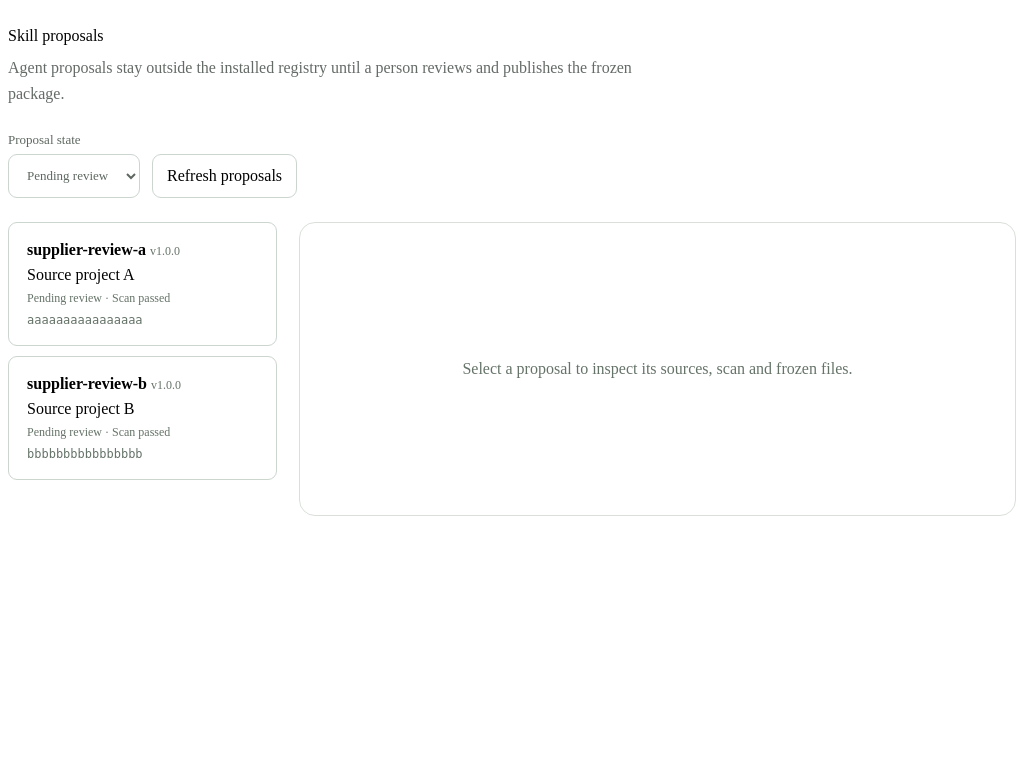
Test case: SkillProposalsPanel › publishes once with exact review and target revisions, then refreshes Installed without enabling
Step 1. Click the button that starts with "supplier-review-a" → [87, 249], box [8,222,277,346]
(page scrolled)
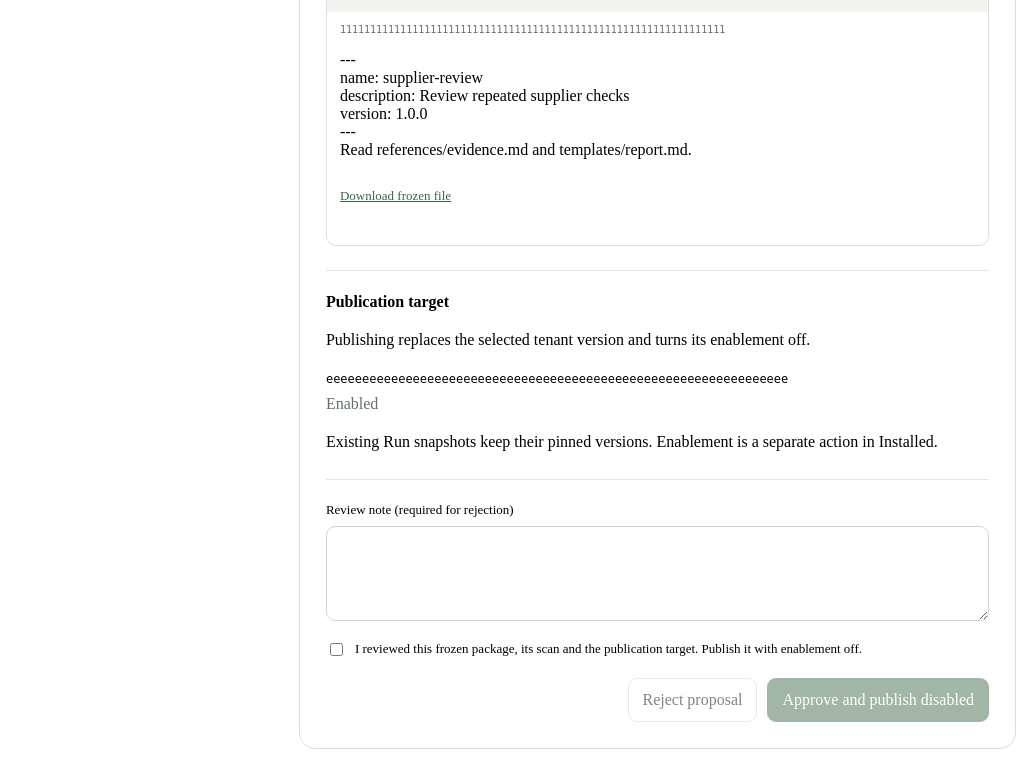
Result: the checkbox is enabled at [330,643,343,656]
Step 2. Type " Inspected every frozen file. " into the text box → [657, 574], box [326,526,989,621]
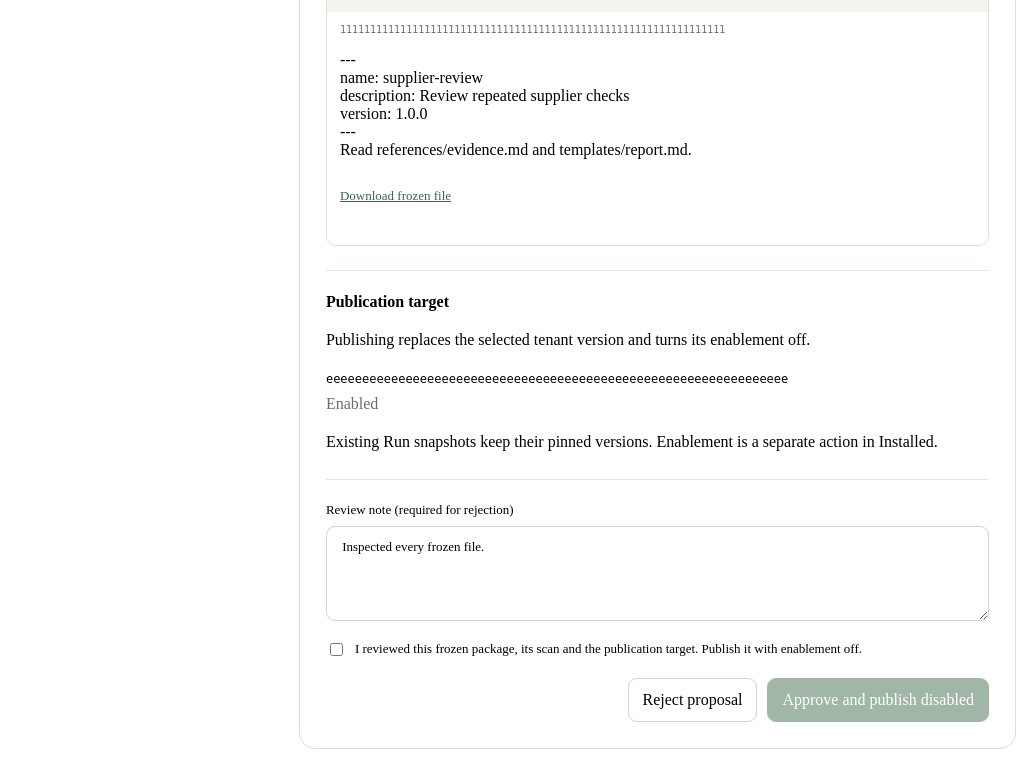
Step 3. Click the checkbox → [336, 650], box [330,643,343,656]
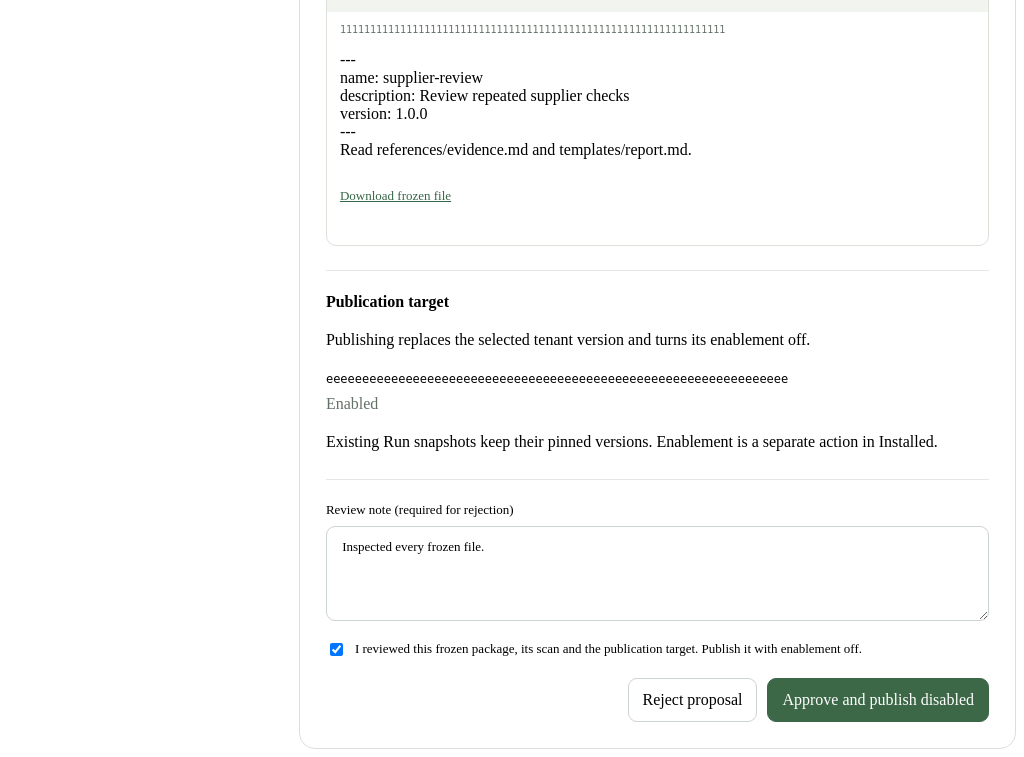
Step 4. Click the button "Approve and publish disabled" → [878, 700], box [768,678,989,722]
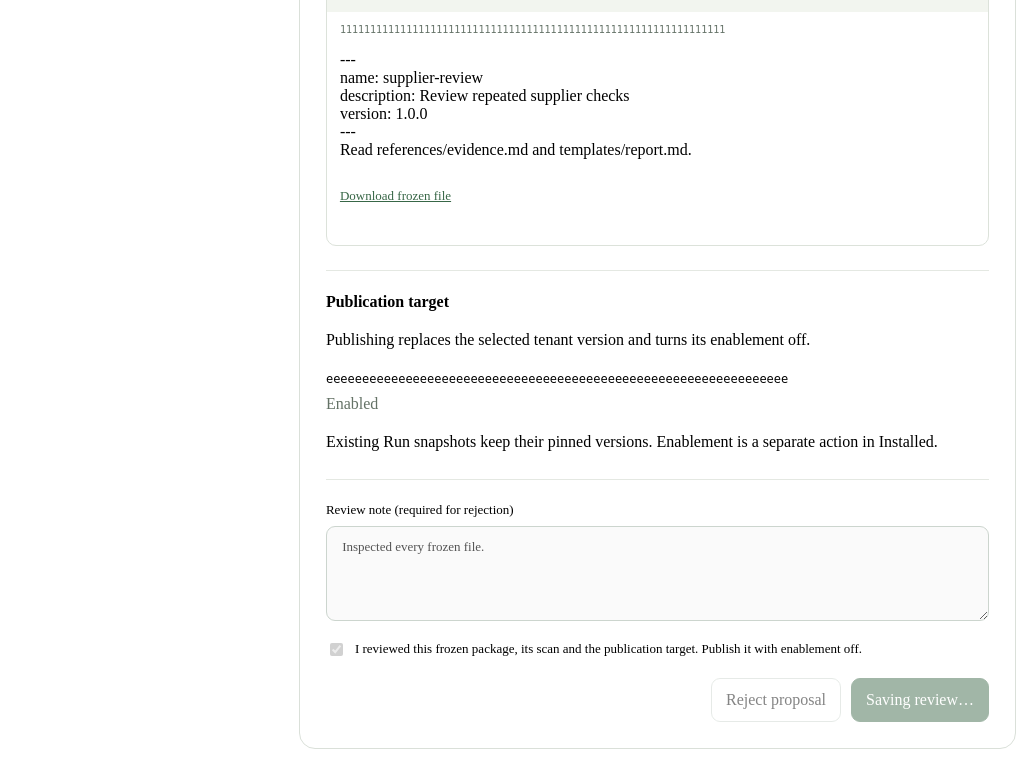
Step 5. Click the button named "Approve and publish disabled" → [920, 700], box [851,678,989,722]
(page scrolled)
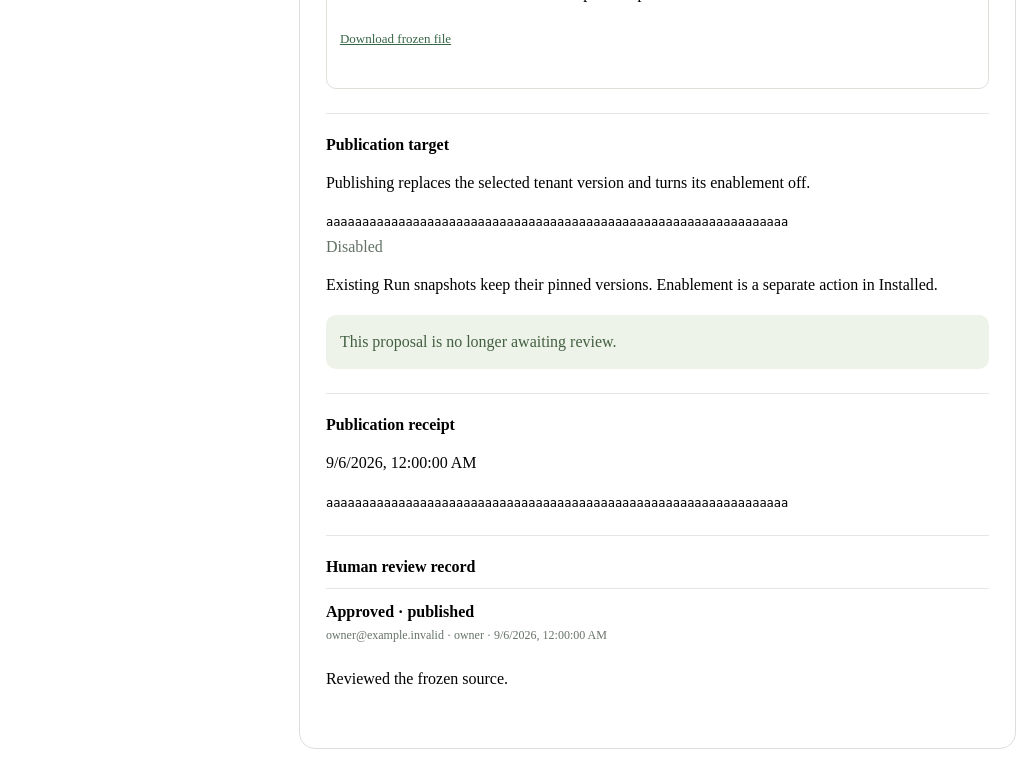
Expected: the button "Approve and publish disabled" is not shown
Result: the heading "Publication receipt" is shown at [326,416,455,433]
Result: the text "owner@example.invalid · owner · 9/6/2026, 12:00:00 AM" is shown at [326,628,607,642]
